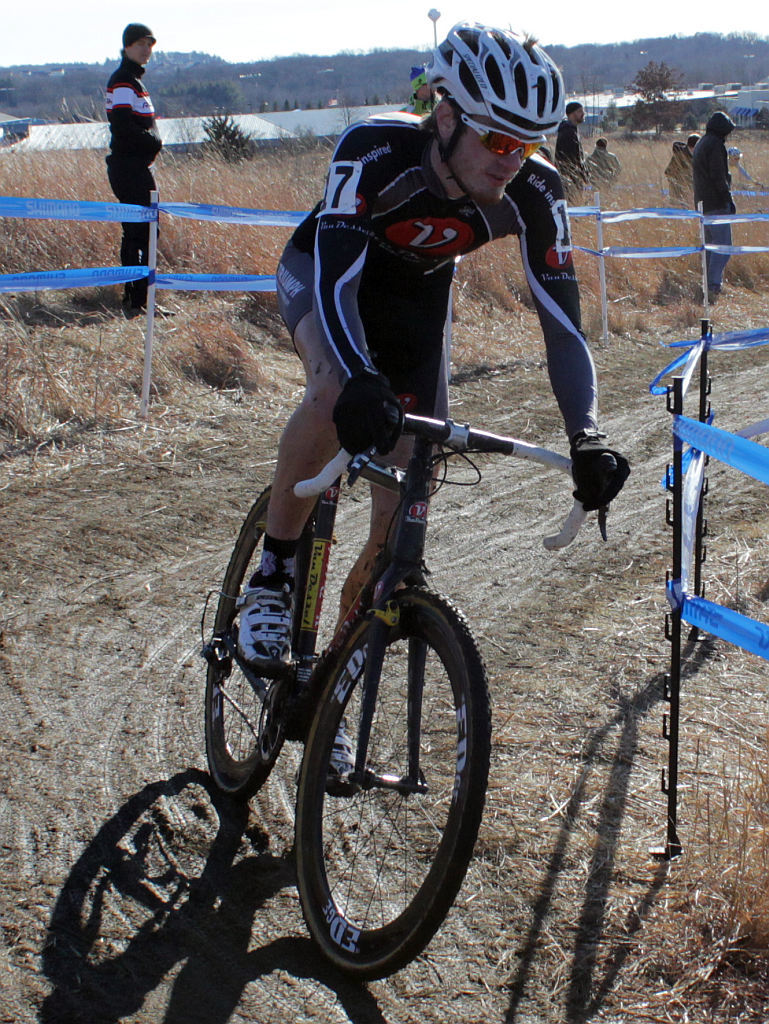Bike_toward: (186, 383, 572, 946)
